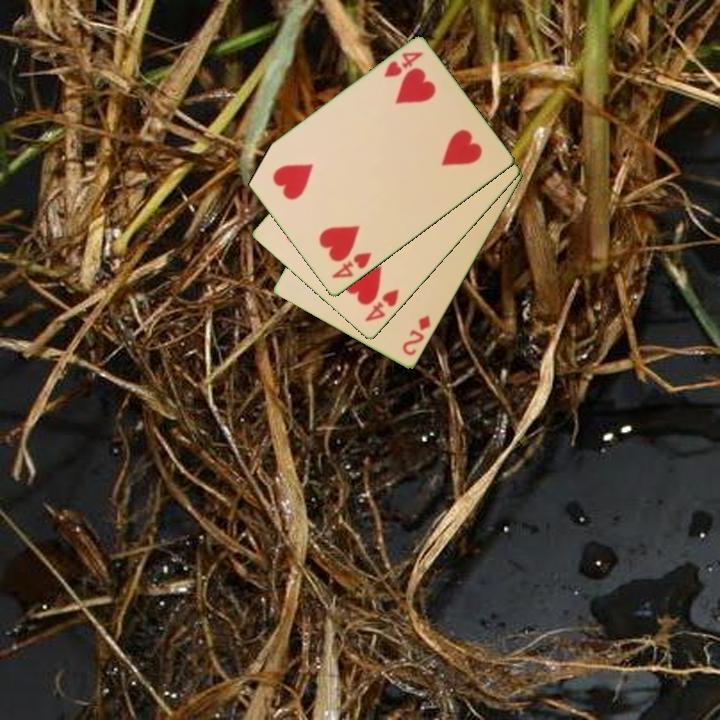2d: (399, 312, 434, 359)
4h: (361, 286, 402, 325), (328, 249, 375, 282), (380, 48, 426, 81)
